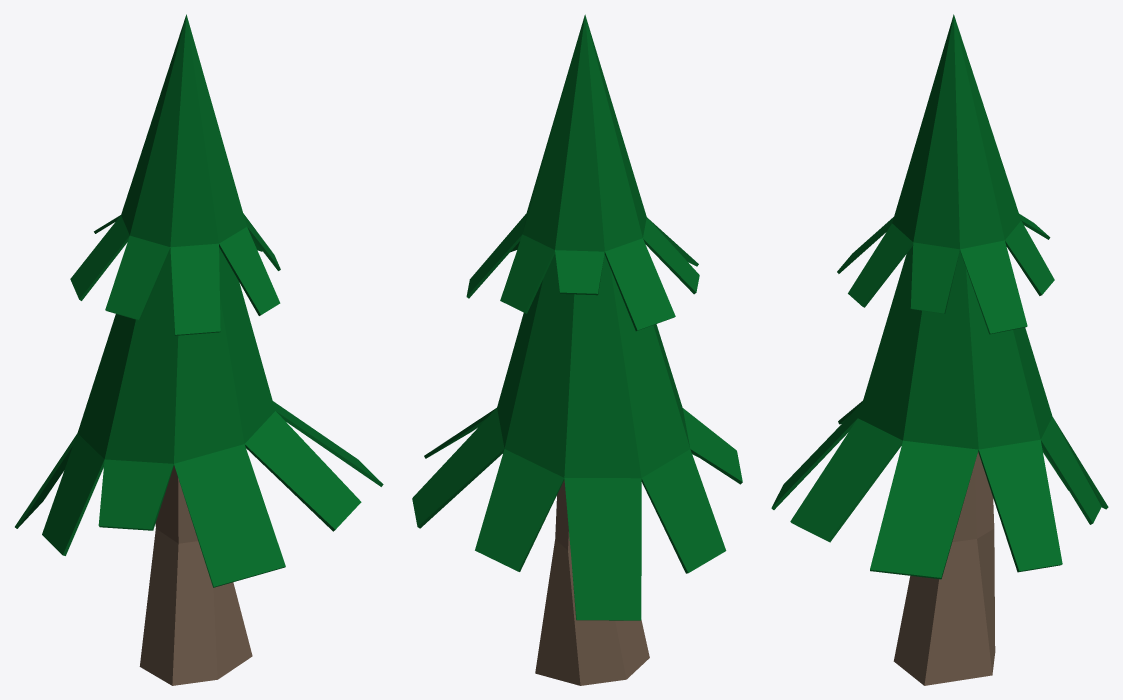
File: Spruce_1.fbx
3 views of the same model, side by side, from view 1: azimuth 30°, elevation 25°; view 2: azimuth 150°, elevation 25°; view 3: azimuth 270°, elevation 25° (orthographic).
Parts seen in each view (by area): view 1: Spruce_1; view 2: Spruce_1; view 3: Spruce_1.
Boxes of the visible parts, left/top/right/bottom form: Spruce_1: left=15, top=14, right=383, bottom=685; Spruce_1: left=412, top=14, right=742, bottom=685; Spruce_1: left=771, top=14, right=1108, bottom=685.
Bounding box in the file's own units: 215 × 211 × 446.
